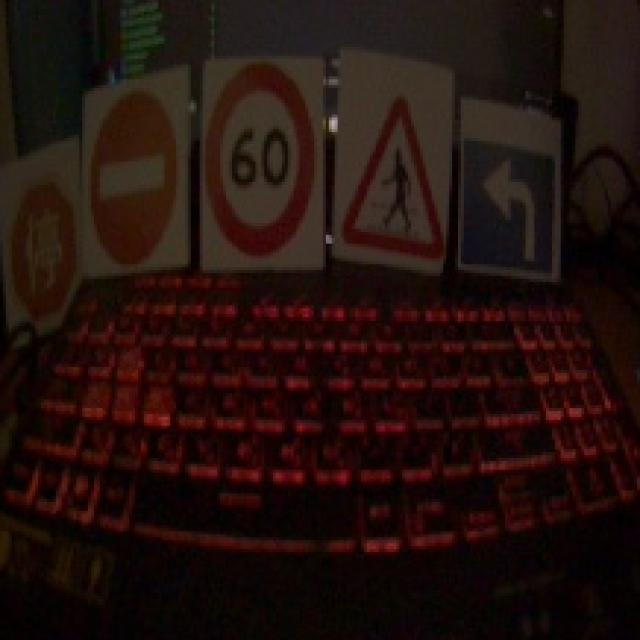DoNotEnterSign: (87, 89, 182, 267)
